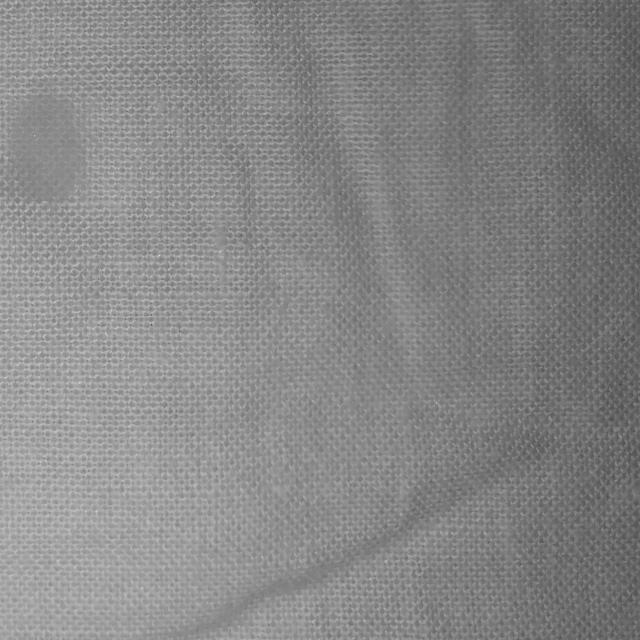Stain: (8, 95, 85, 201)
